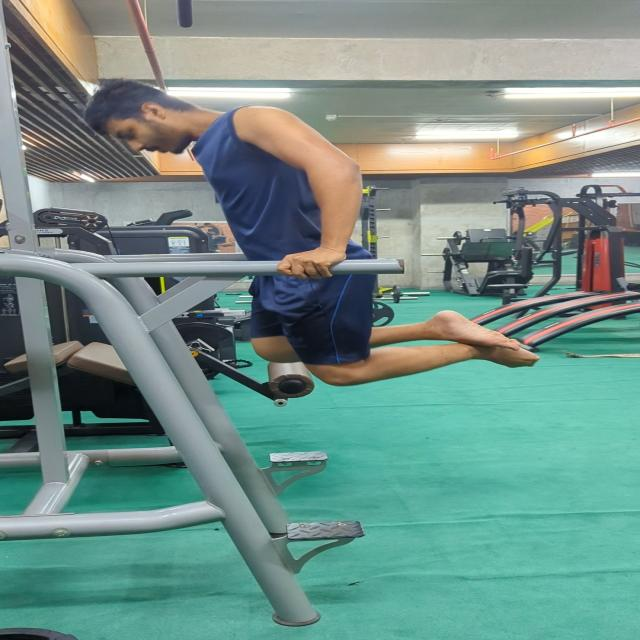Normal_Dips: (74, 71, 548, 382)
